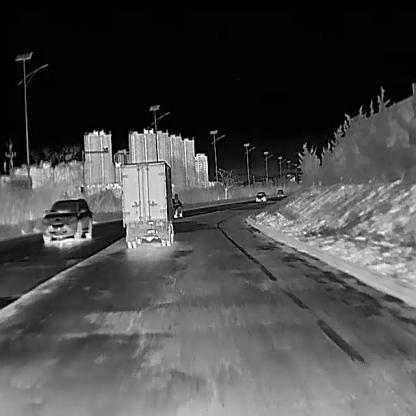car: (40, 197, 91, 243), (171, 196, 183, 218), (254, 190, 266, 201), (276, 188, 284, 196)
truck: (120, 159, 176, 247)
